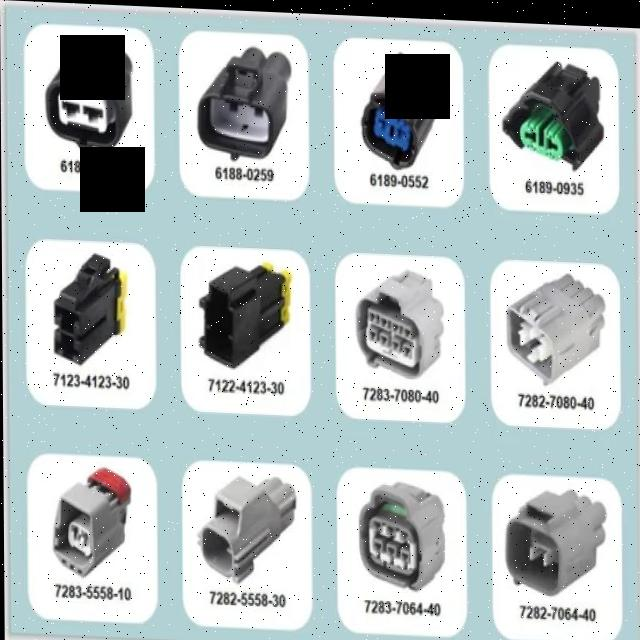connector: (503, 57, 603, 164), (507, 269, 603, 380), (504, 485, 605, 590), (198, 45, 290, 157), (199, 474, 295, 580), (357, 266, 443, 375), (199, 263, 288, 366), (47, 41, 131, 148), (359, 480, 443, 586), (362, 50, 439, 165), (53, 467, 129, 575), (54, 254, 120, 363)
